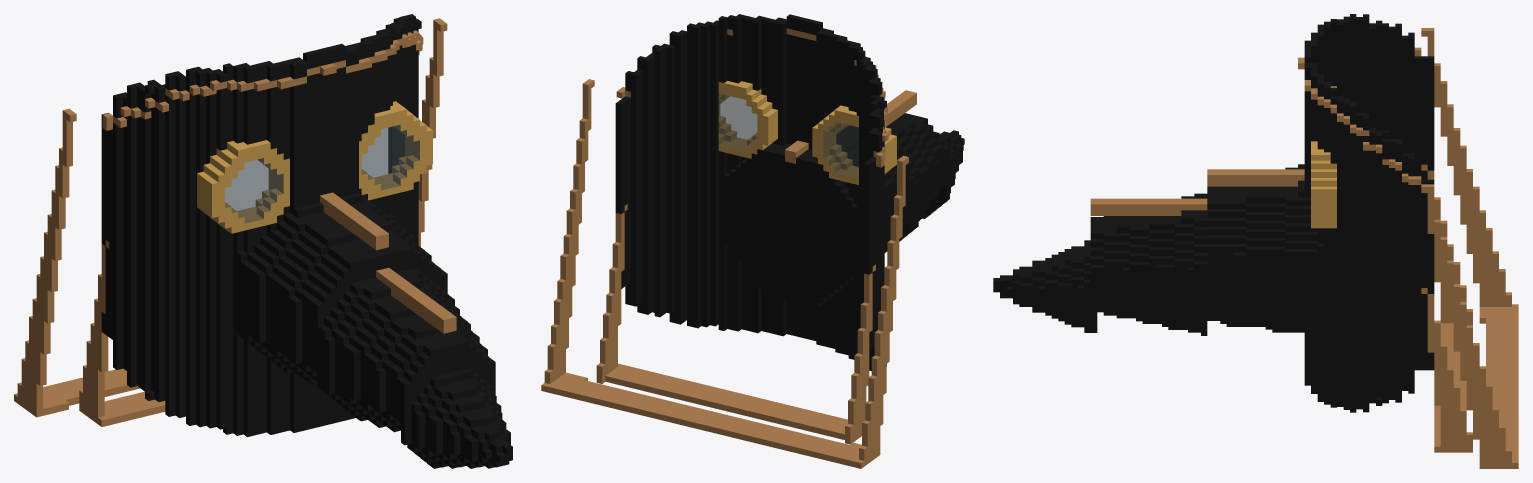
Rendered from mask_plague.glb.
3 renders of one model, left to right at view 1: azimuth 30°, elevation 25°; view 2: azimuth 150°, elevation 25°; view 3: azimuth 270°, elevation 25°, orthographic. The views are drawn at different scales.
Visible parts, largest first — view 1: mask_plague:compound; view 2: mask_plague:compound; view 3: mask_plague:compound.
Part boxes in pixels (left/top/right/bottom): mask_plague:compound: left=14, top=14, right=512, bottom=468; mask_plague:compound: left=541, top=14, right=964, bottom=468; mask_plague:compound: left=993, top=14, right=1518, bottom=468.
Bounding box in the file's own units: 0.232 × 0.232 × 0.324.
